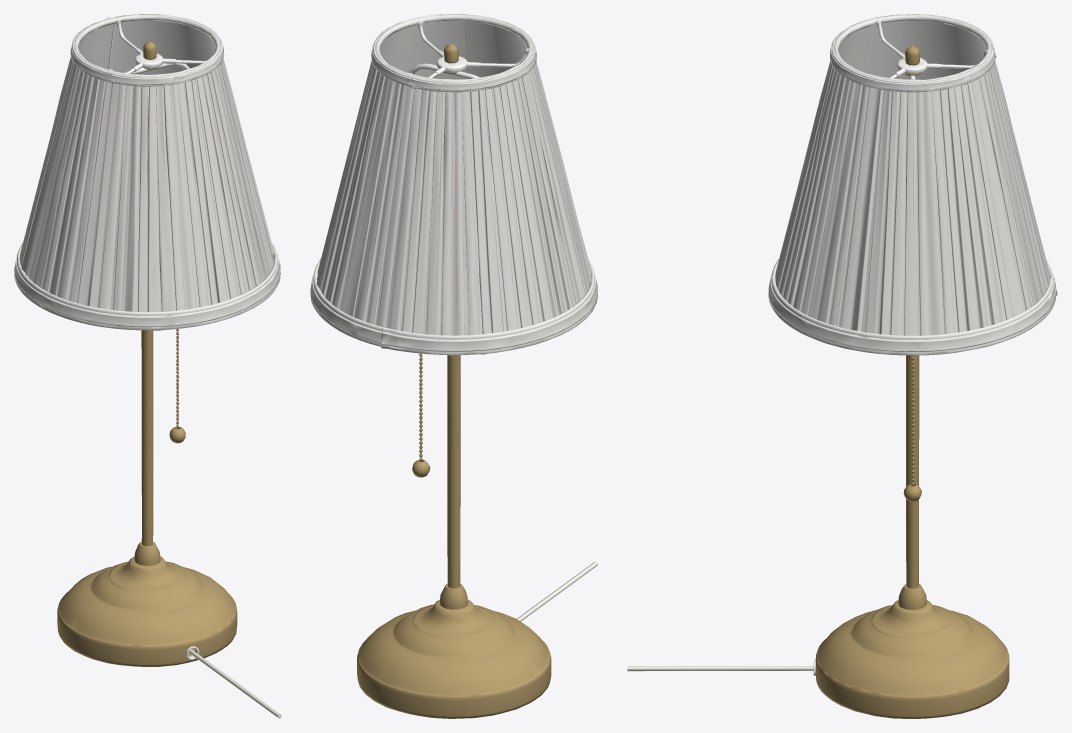
3 views of the same model, side by side, from view 1: azimuth 30°, elevation 25°; view 2: azimuth 150°, elevation 25°; view 3: azimuth 270°, elevation 25° (orthographic). The views are drawn at different scales.
Parts seen in each view (by area): view 1: 30321373-Ãƒâ€¦RSTID001; view 2: 30321373-Ãƒâ€¦RSTID001; view 3: 30321373-Ãƒâ€¦RSTID001.
Boxes of the visible parts, box(x1,y1,x2,y2) form: 30321373-Ãƒâ€¦RSTID001: box(14, 14, 281, 718); 30321373-Ãƒâ€¦RSTID001: box(310, 14, 598, 718); 30321373-Ãƒâ€¦RSTID001: box(627, 14, 1057, 718).
Size of the model in its own units: 0.222 by 0.5405 by 0.3322.
1 material, 1 textured.
